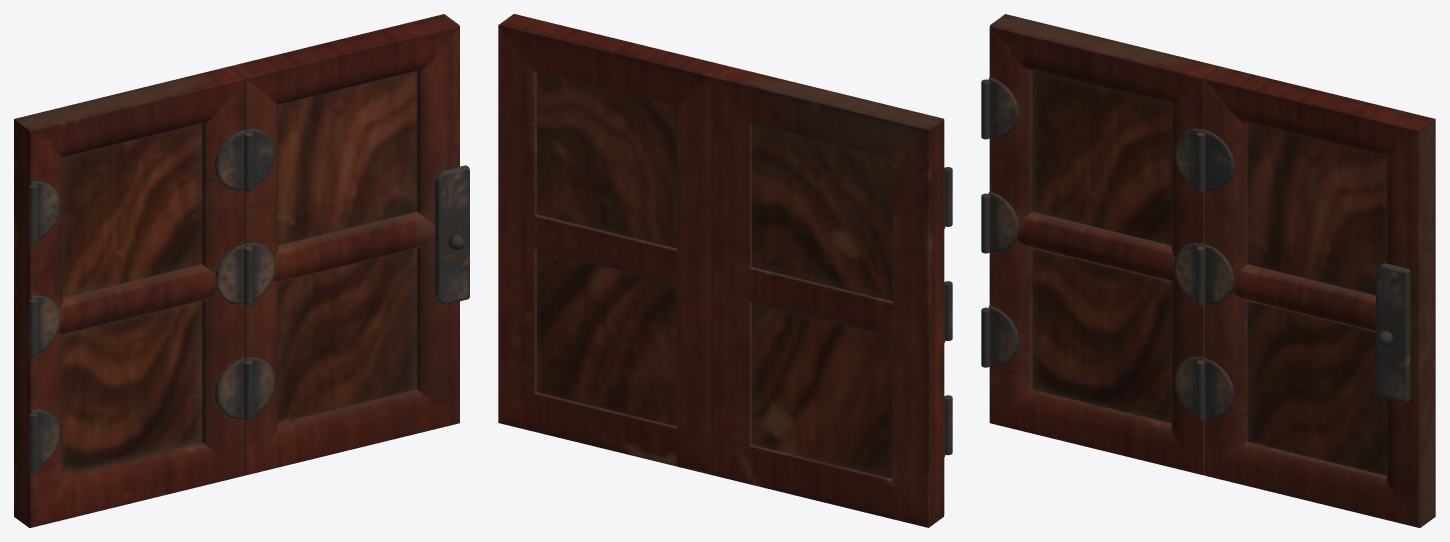
File: SM_ThreetieredCupboard_door03.fbx
The picture shows the model from 3 angles, left to right: view 1: azimuth 30°, elevation 25°; view 2: azimuth 150°, elevation 25°; view 3: azimuth 330°, elevation 25°; orthographic projection.
Parts seen in each view (by area): view 1: SM_ThreetieredCupboard_door03; view 2: SM_ThreetieredCupboard_door03; view 3: SM_ThreetieredCupboard_door03.
Part boxes in pixels (x1,y1,x2,y2): SM_ThreetieredCupboard_door03: (14, 14, 469, 527); SM_ThreetieredCupboard_door03: (498, 14, 952, 527); SM_ThreetieredCupboard_door03: (981, 14, 1435, 527).
Size of the model in its own units: 46.05 by 40.33 by 6.44.
1 material, 1 textured.
